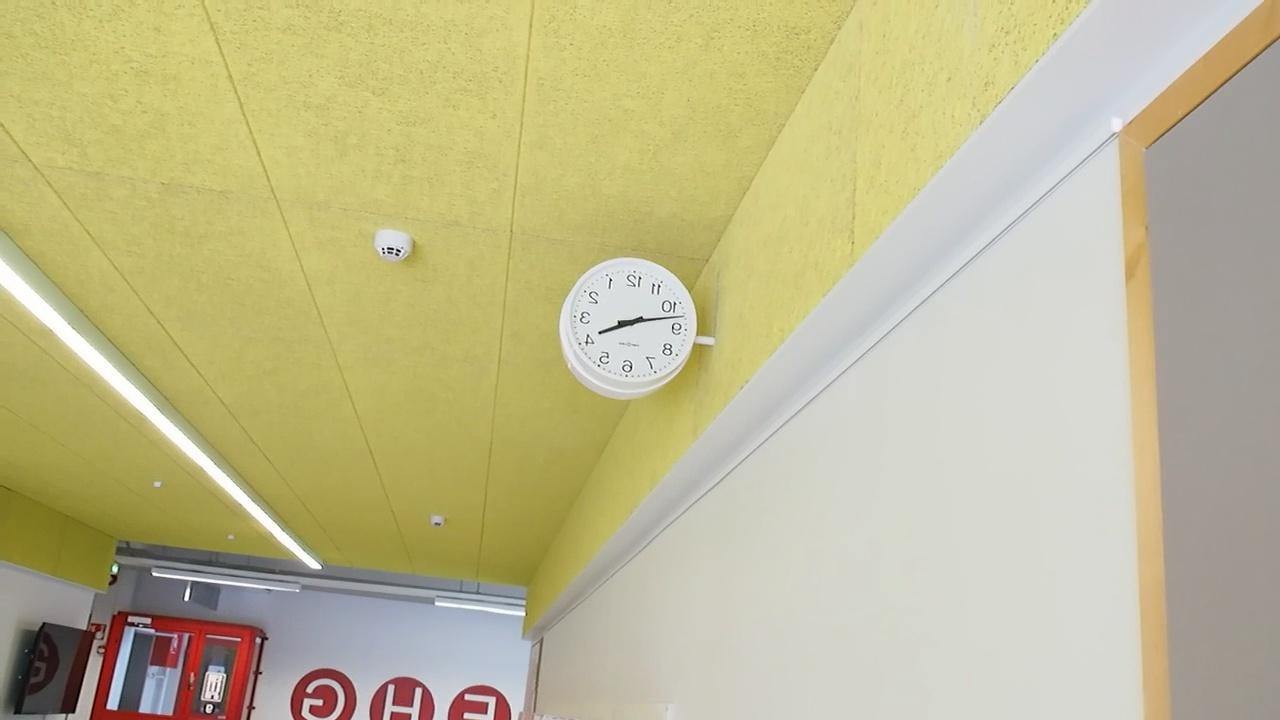clock: (557, 258, 701, 400)
